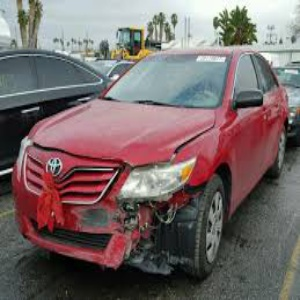bumper: (63, 204, 187, 278)
head_lights: (84, 146, 191, 201)
